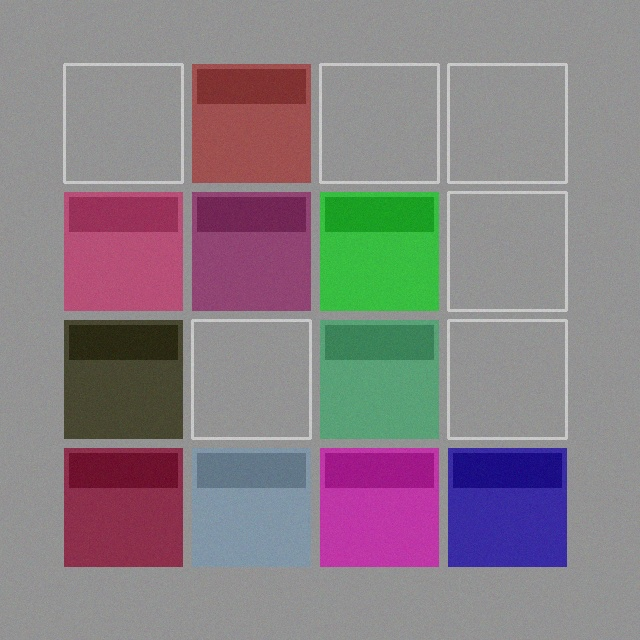space-empty: (64, 64, 182, 182), (320, 64, 438, 182), (448, 64, 566, 182), (448, 192, 566, 310), (192, 320, 310, 438), (448, 320, 566, 438)
space-occupied: (192, 64, 310, 182), (64, 192, 182, 310), (192, 192, 310, 310), (320, 192, 438, 310), (64, 320, 182, 438), (320, 320, 438, 438), (64, 448, 182, 566), (192, 448, 310, 566), (320, 448, 438, 566), (448, 448, 566, 566)
